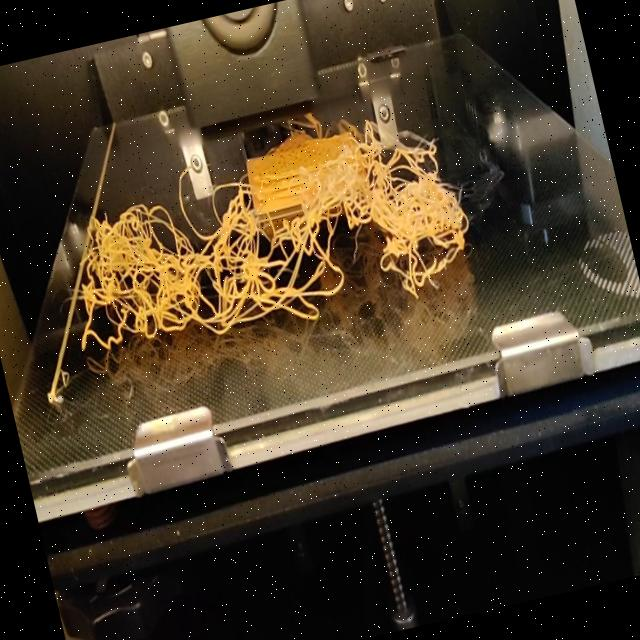spaghetti: (47, 100, 490, 383)
